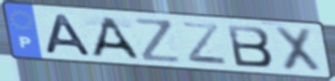A: (89, 15, 142, 61), (42, 13, 95, 57)
B: (224, 23, 276, 69)
X: (271, 25, 324, 75)
Z: (132, 16, 185, 65), (179, 20, 231, 67)
